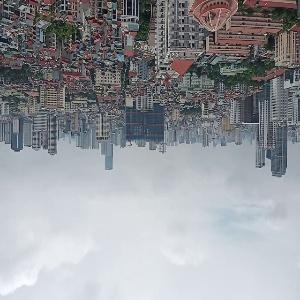drone: (144, 56, 193, 105)
